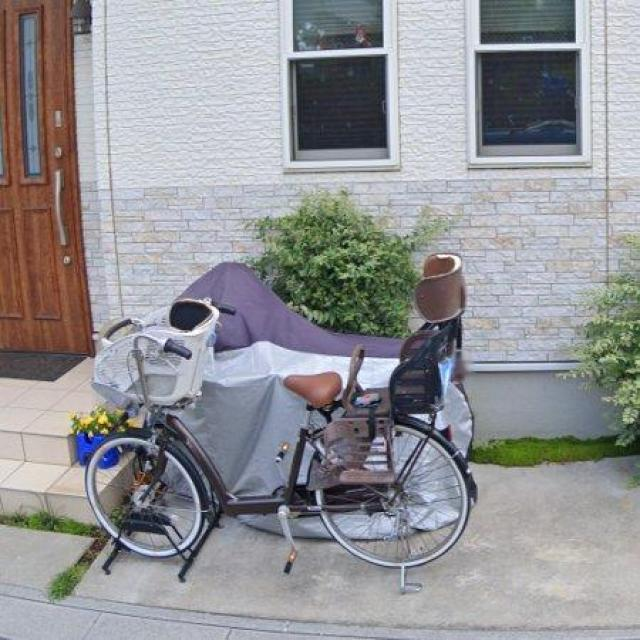bicycle: (86, 317, 479, 574)
